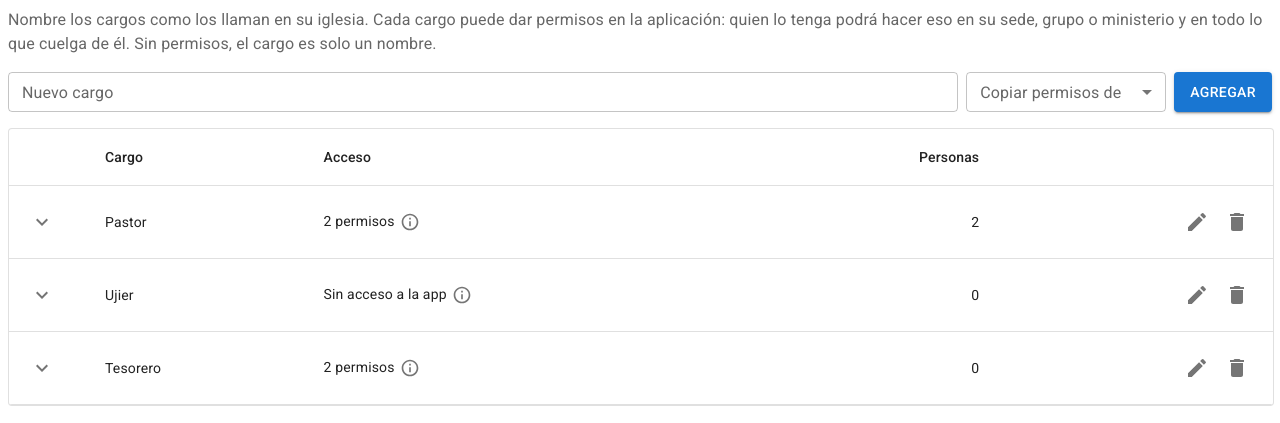
Scenario: PositionsManager › lists the permissions of a position from its info icon
The image size is (1280, 423).
Click the button named "Ver permisos de Pastor" at (410, 222), box top-left (395, 207), bottom-right (425, 237)
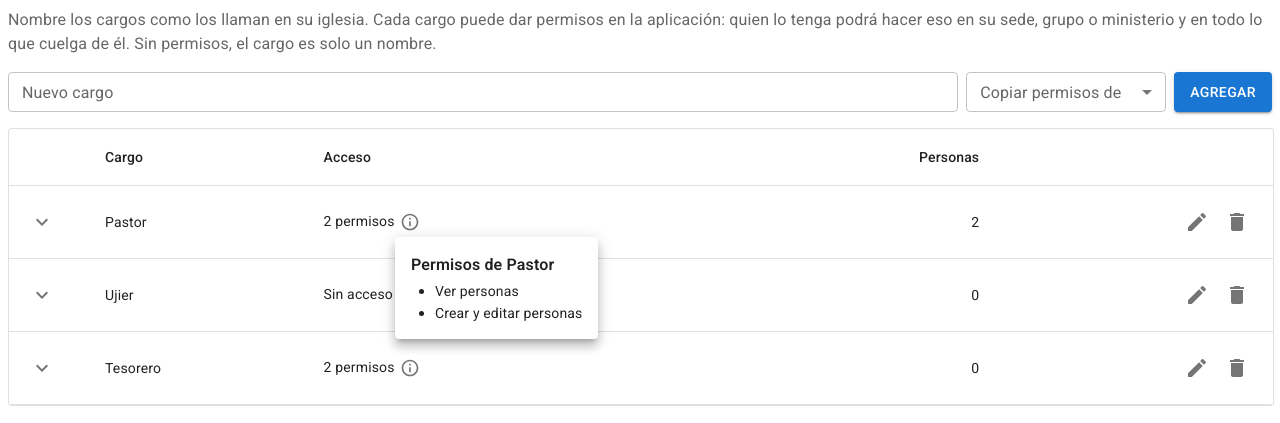
Expected: the text "Permisos de Pastor" is shown, top-left (411, 255), bottom-right (554, 274)
Expected: the text "Crear y editar personas" is shown, top-left (435, 303), bottom-right (582, 323)
